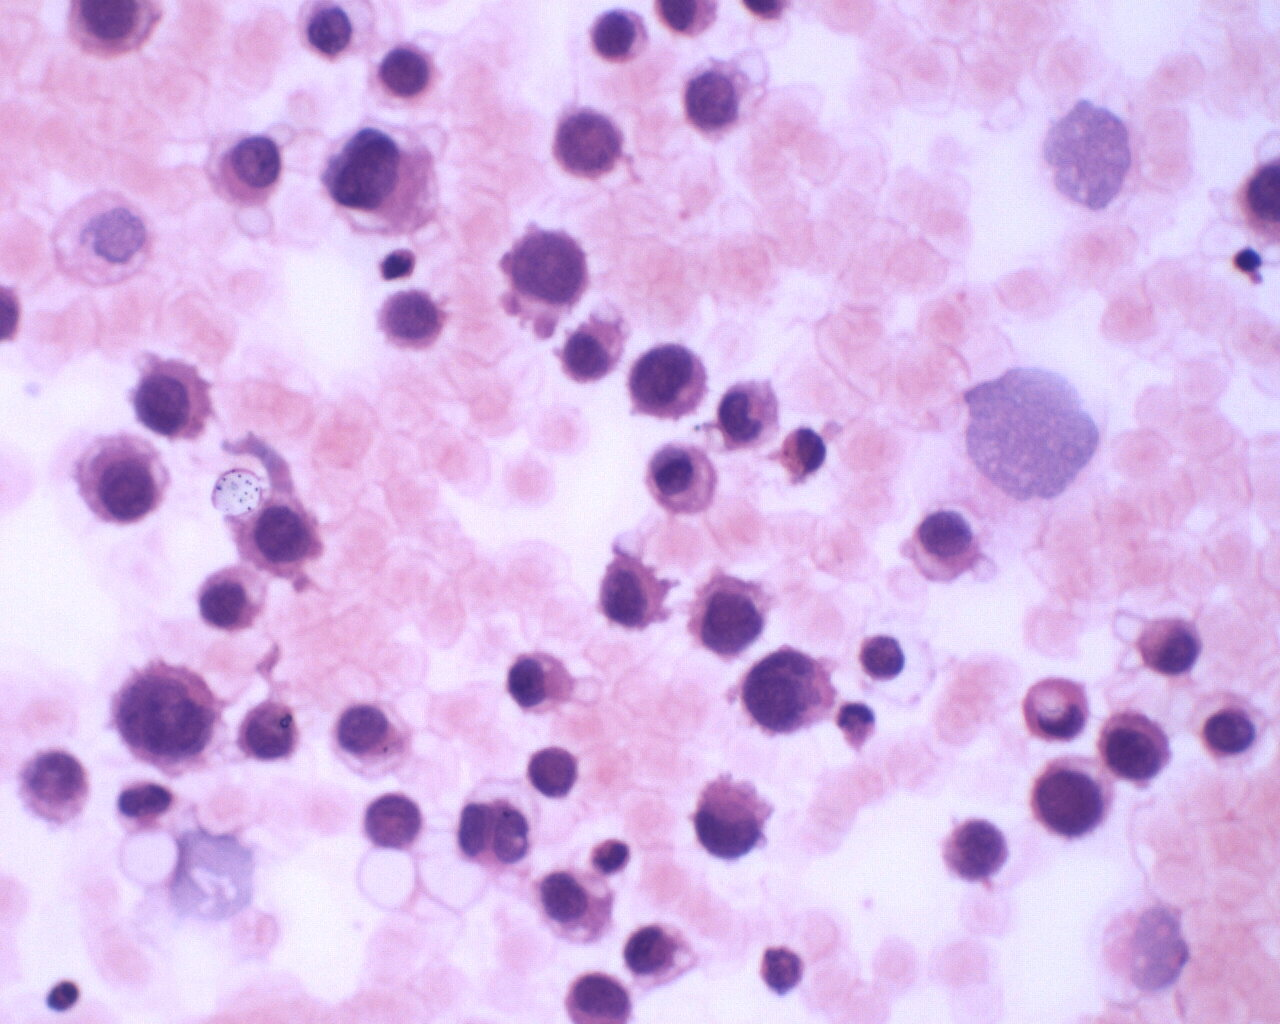ab: (321, 121, 446, 238), (107, 656, 222, 777), (68, 430, 167, 530), (735, 636, 831, 738), (497, 222, 594, 313), (1025, 755, 1114, 843), (234, 494, 331, 574), (683, 571, 769, 660), (132, 352, 216, 442), (13, 745, 99, 831), (691, 778, 779, 862), (624, 340, 709, 425), (1094, 705, 1174, 795), (618, 915, 707, 991), (598, 546, 670, 637), (548, 103, 628, 184), (712, 367, 785, 450), (213, 127, 288, 203), (1137, 611, 1210, 686), (231, 698, 307, 766), (942, 816, 1013, 887), (372, 288, 449, 351), (375, 37, 441, 103), (561, 965, 634, 1024), (587, 6, 655, 67)
meso: (639, 439, 719, 521)
